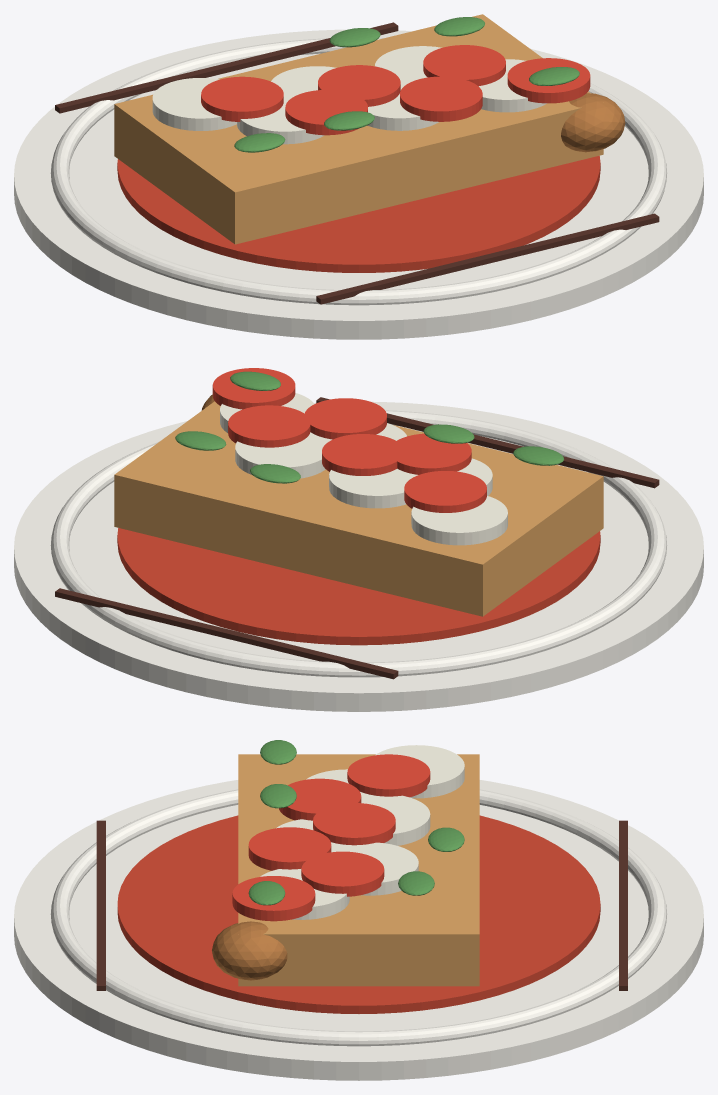
The model's file is focaccia-capresse-v120.glb.
3 renders of one model, top to bottom at view 1: azimuth 30°, elevation 25°; view 2: azimuth 150°, elevation 25°; view 3: azimuth 270°, elevation 25°, orthographic.
Parts seen in each view (by area): view 1: plate, focaccia, napolitana, rim, balsamic_1, tomato_3, tomato_0, balsamic_0, crust, mozzarella_0, tomato_4, tomato_1 (+12 smaller); view 2: plate, focaccia, napolitana, rim, balsamic_0, mozzarella_0, tomato_0, tomato_4, tomato_2, tomato_3, tomato_1, mozzarella_2 (+10 smaller); view 3: plate, napolitana, focaccia, rim, crust, tomato_4, tomato_0, tomato_2, tomato_3, tomato_5, tomato_1, mozzarella_0 (+11 smaller).
Boxes of the visible parts, left/top/right/bottom form: plate: left=14, top=29, right=703, bottom=339; focaccia: left=114, top=14, right=603, bottom=244; napolitana: left=117, top=155, right=600, bottom=272; rim: left=50, top=38, right=667, bottom=305; balsamic_1: left=316, top=213, right=659, bottom=304; tomato_3: left=400, top=76, right=482, bottom=121; tomato_0: left=201, top=76, right=283, bottom=121; balsamic_0: left=55, top=22, right=398, bottom=113; crust: left=561, top=93, right=625, bottom=152; mozzarella_0: left=152, top=78, right=236, bottom=130; tomato_4: left=423, top=45, right=505, bottom=86; tomato_1: left=285, top=90, right=367, bottom=135; plate: left=14, top=401, right=703, bottom=711; focaccia: left=114, top=401, right=603, bottom=616; napolitana: left=117, top=528, right=600, bottom=645; rim: left=50, top=410, right=667, bottom=677; balsamic_0: left=55, top=588, right=398, bottom=679; mozzarella_0: left=411, top=496, right=507, bottom=545; tomato_0: left=404, top=471, right=486, bottom=512; tomato_4: left=228, top=405, right=310, bottom=447; tomato_2: left=322, top=434, right=402, bottom=475; tomato_3: left=304, top=398, right=386, bottom=439; tomato_1: left=389, top=433, right=471, bottom=474; mozzarella_2: left=329, top=468, right=410, bottom=508; plate: left=14, top=780, right=703, bottom=1080; napolitana: left=117, top=815, right=600, bottom=1013; focaccia: left=238, top=754, right=479, bottom=986; rim: left=50, top=789, right=667, bottom=1046; crust: left=212, top=921, right=287, bottom=980; tomato_4: left=301, top=851, right=384, bottom=896; tomato_0: left=347, top=754, right=430, bottom=797; tomato_2: left=313, top=803, right=395, bottom=845; tomato_3: left=248, top=827, right=331, bottom=870; tomato_5: left=232, top=876, right=315, bottom=921; tomato_1: left=279, top=778, right=361, bottom=820; mozzarella_0: left=375, top=745, right=464, bottom=798.
Bounding box in the file's own units: 0.3 × 0.057 × 0.3.
